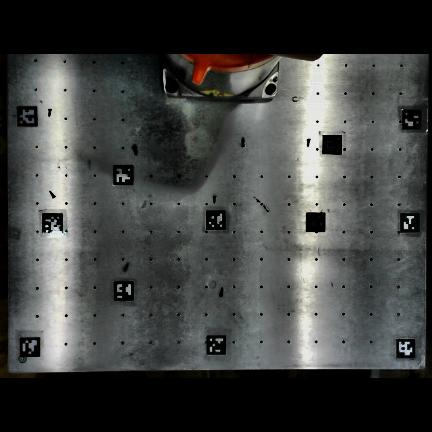black_screw: (239, 137, 245, 146), (306, 137, 311, 146), (132, 145, 137, 154), (123, 263, 129, 270), (50, 192, 56, 198), (219, 292, 223, 296), (50, 108, 53, 112), (214, 198, 215, 203)
marker: (17, 107, 38, 128), (400, 213, 420, 234), (42, 214, 62, 234), (113, 166, 133, 186), (114, 282, 134, 302), (206, 337, 226, 357), (403, 111, 422, 132), (206, 210, 225, 231), (20, 338, 40, 357), (396, 339, 415, 359), (306, 213, 325, 232), (323, 136, 342, 154)
